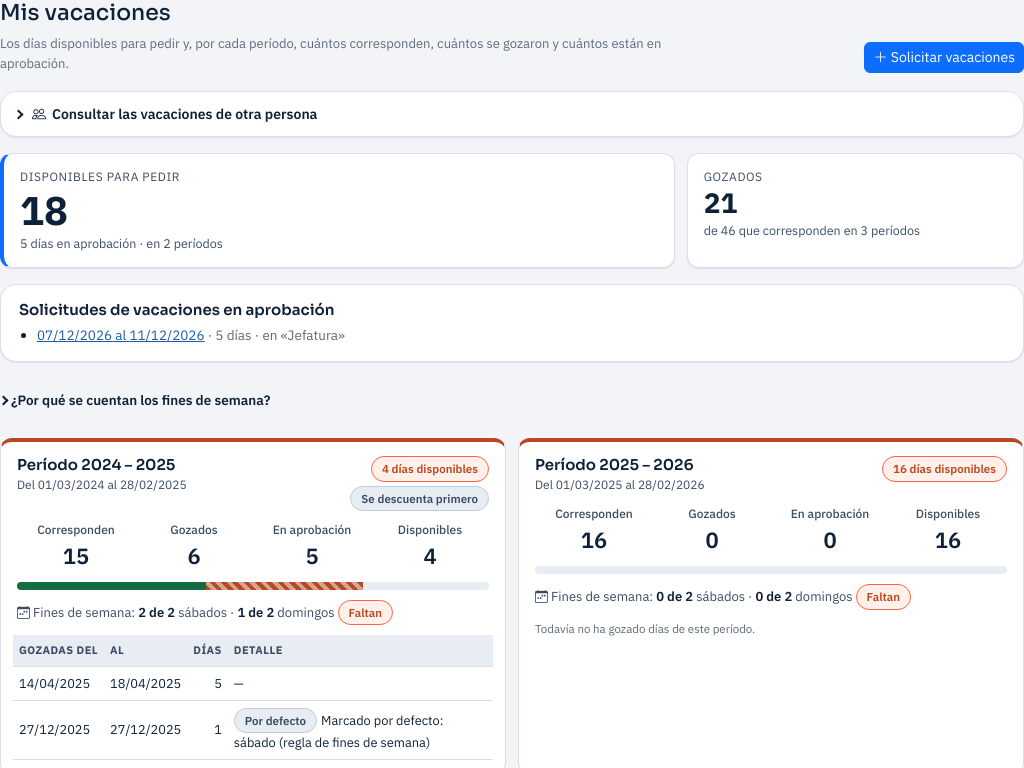
Test: Mis vacaciones › un fallo al buscar personas no se confunde con «nadie coincide»
Click the heading "Consultar las vacaciones de otra persona" at point(175, 114), box [32,104,318,125]
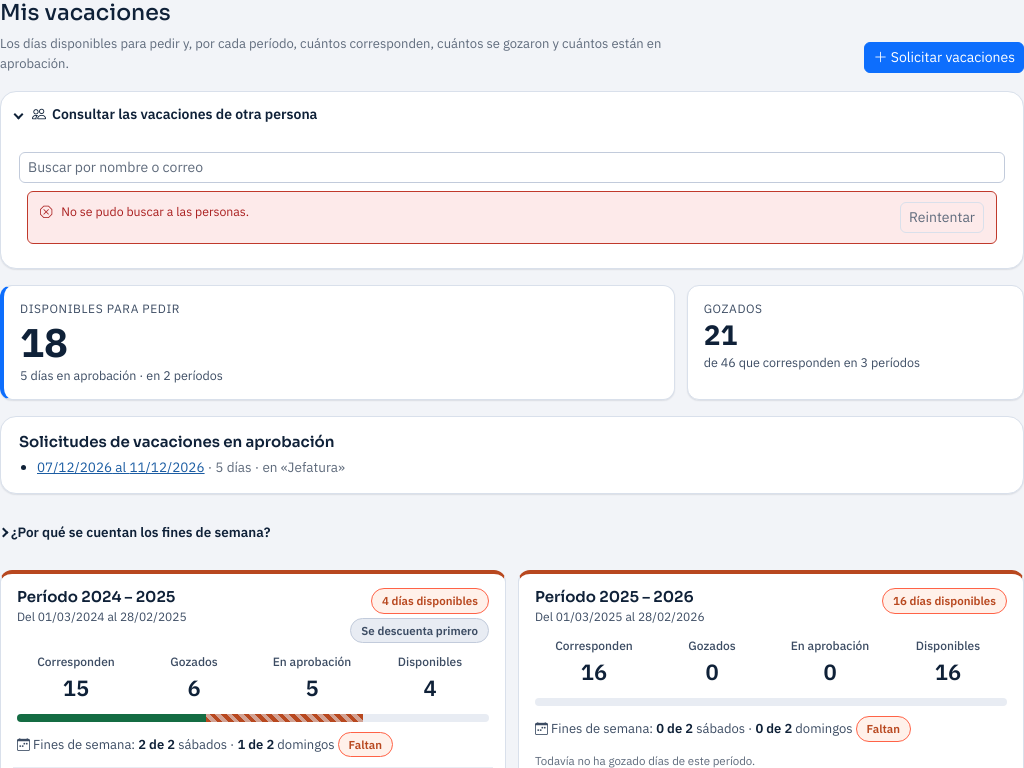
Now the message shows "No se pudo buscar a las personas.", box [61,203,249,219]
